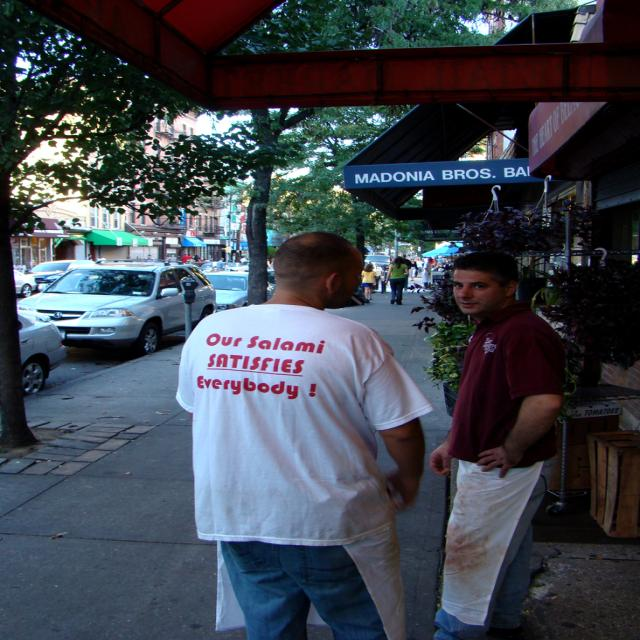car: (6, 259, 214, 357)
